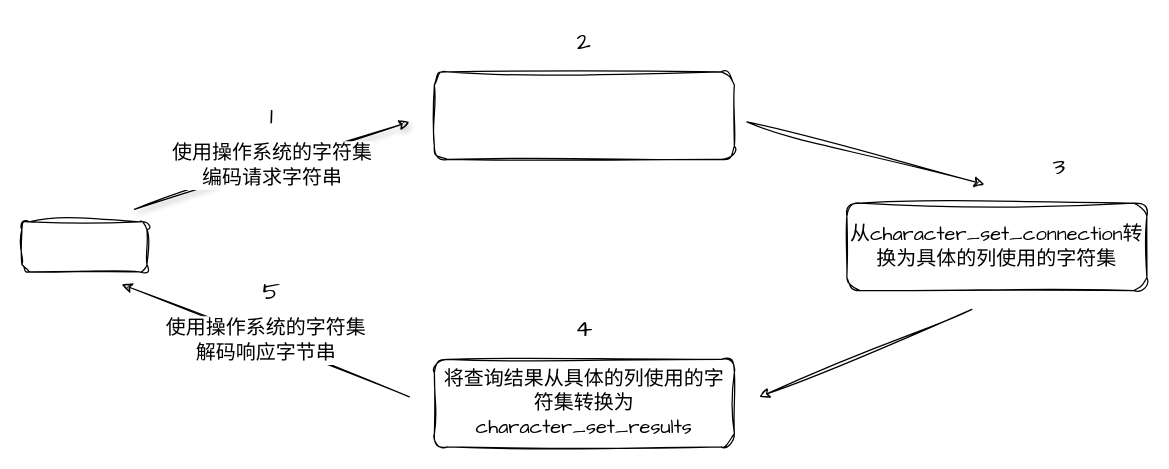
The diagram is 1169 pixels wide and 469 high, and some of its shapes have lost their labels. The shapes that lost their labels are listed below. From the top down, each one's centre as x and y in pixels, then its label:
At (x=583, y=115): "从character_set_client转换为character_set_connection".
At (x=84, y=246): "客户端".
